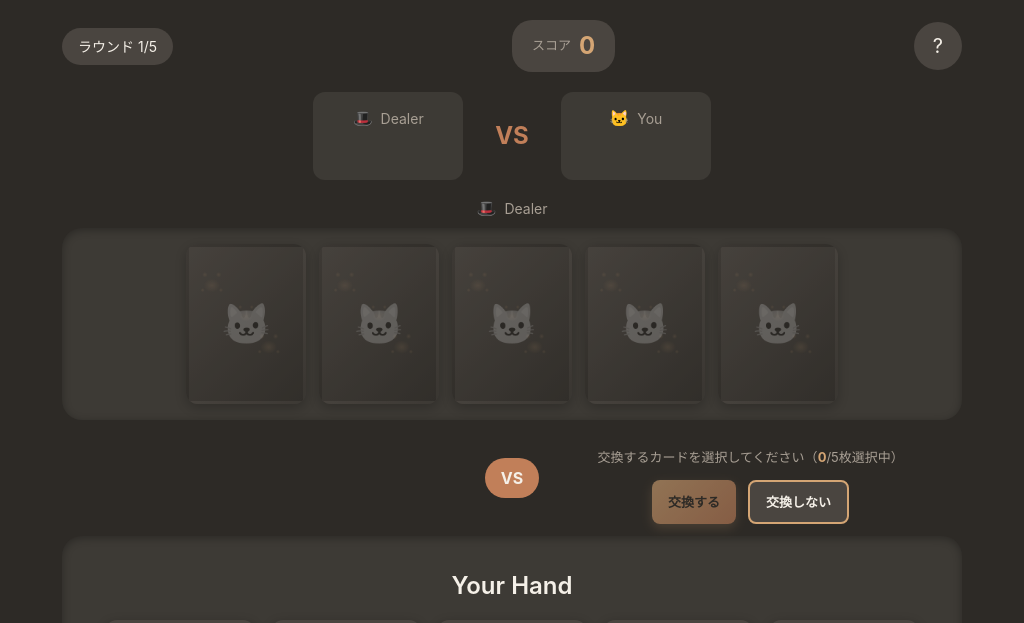
Test case: BattleScreen › Result Overlay › shows result overlay after revealing
Click the button "交換しない": click(799, 502) x1=748 y1=480 x2=849 y2=524
Wait 3000 ms
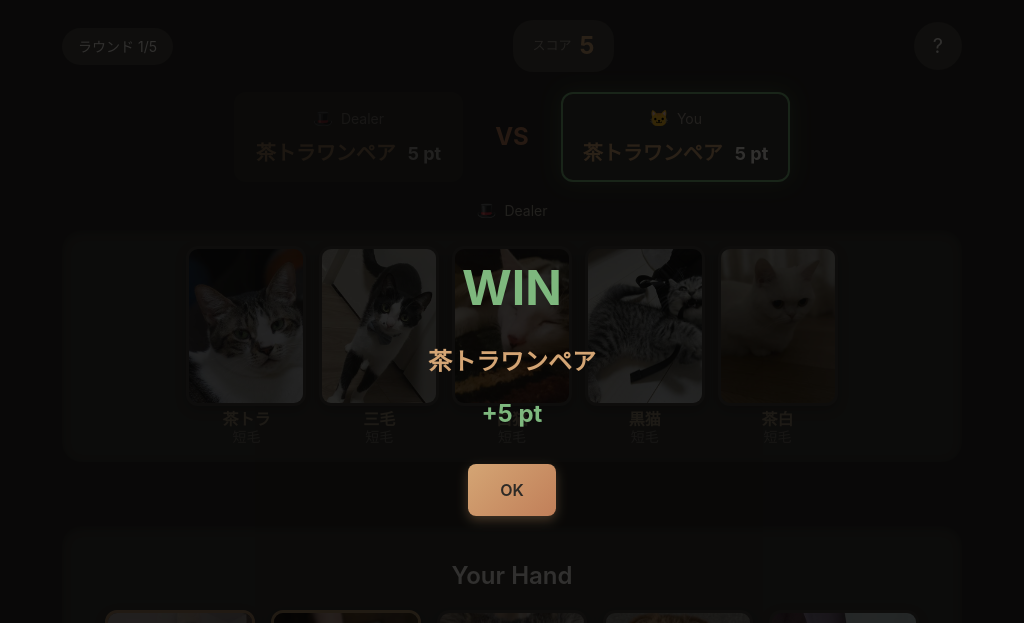
Expected: the heading "WIN" is shown, x1=462 y1=258 x2=562 y2=317
